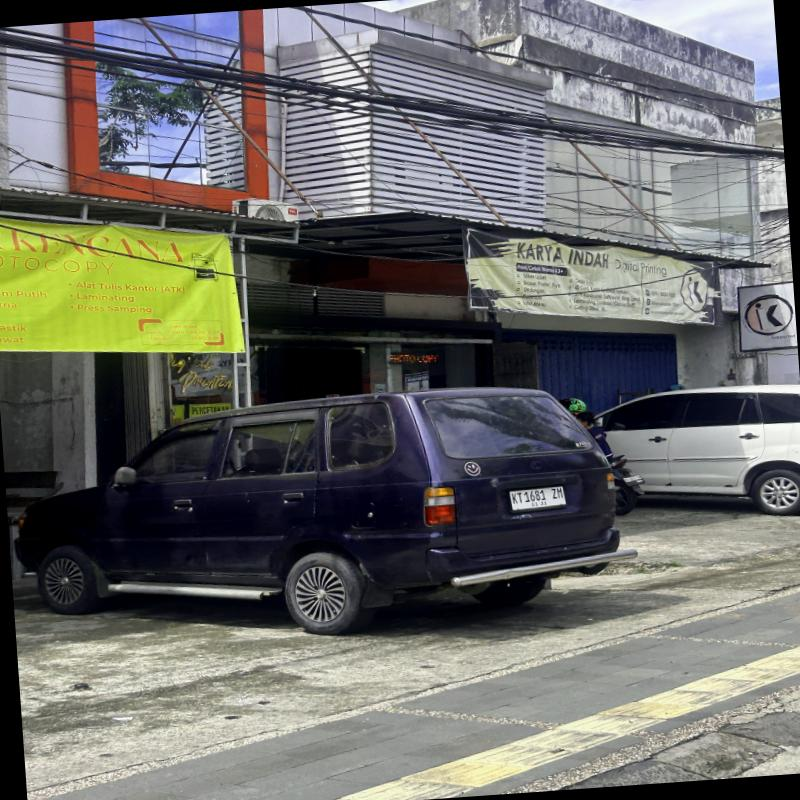license plate on a car: (507, 486, 566, 510)
